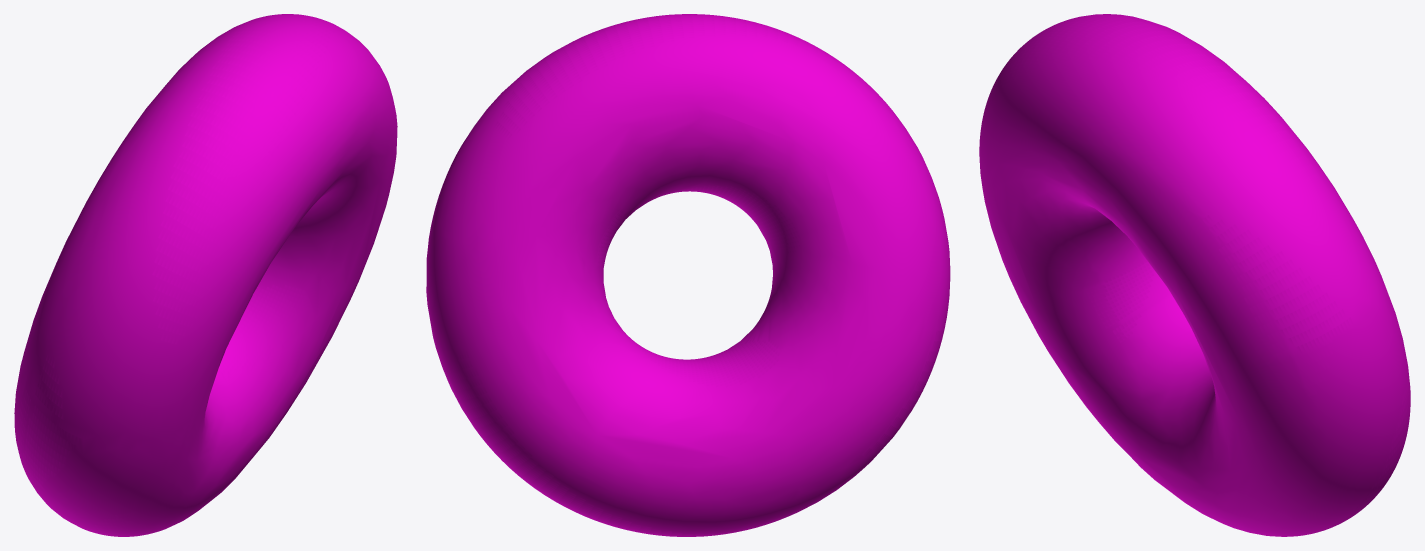
Rendered from torrus-comp.glb.
The picture shows the model from 3 angles, left to right: view 1: azimuth 30°, elevation 25°; view 2: azimuth 150°, elevation 25°; view 3: azimuth 270°, elevation 25°; orthographic projection. The views are drawn at different scales.
Visible parts, largest first — view 1: Torus.002; view 2: Torus.002; view 3: Torus.002.
Part boxes in pixels (x1,y1,x2,y2): Torus.002: (14, 14, 397, 536); Torus.002: (426, 14, 950, 536); Torus.002: (979, 14, 1410, 536).
Bounding box in the file's own units: 0.9315 × 1 × 0.7775.
